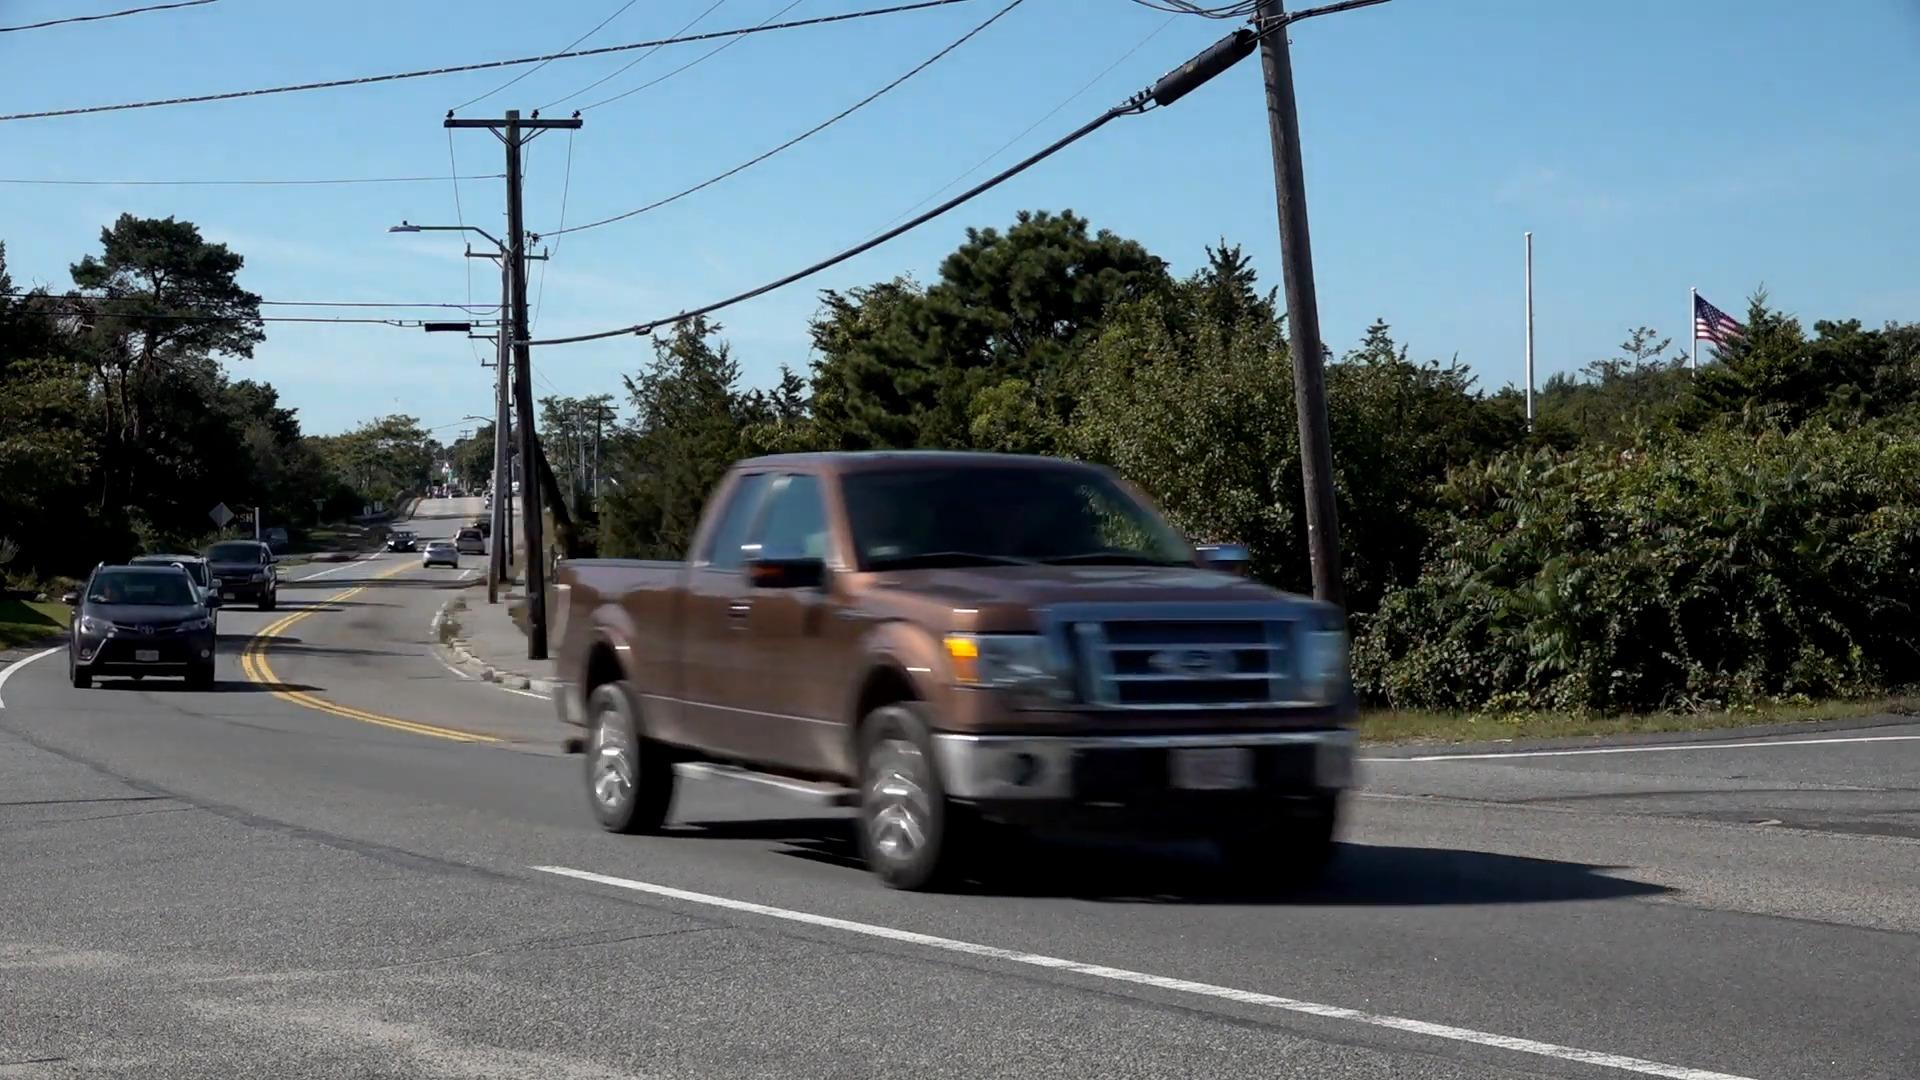pickup: (549, 446, 1361, 899)
suv: (68, 561, 218, 691)
